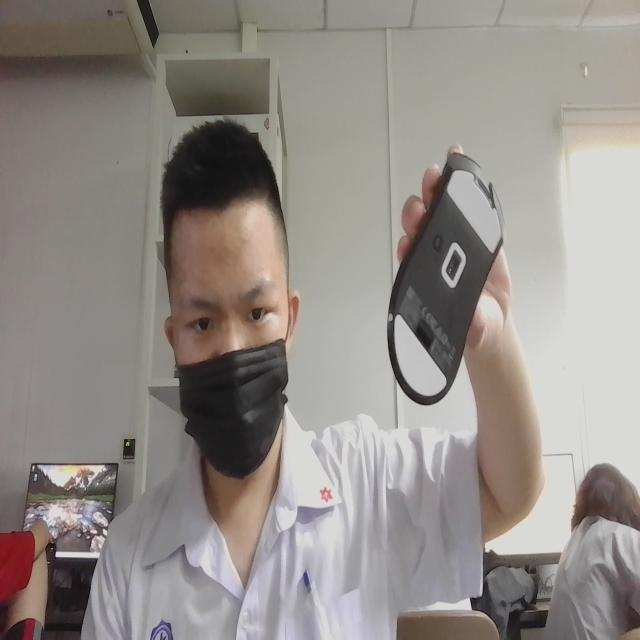mouse: (378, 120, 512, 424)
